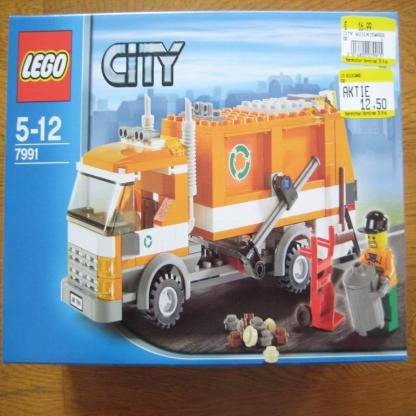Truck: (61, 89, 372, 331)
